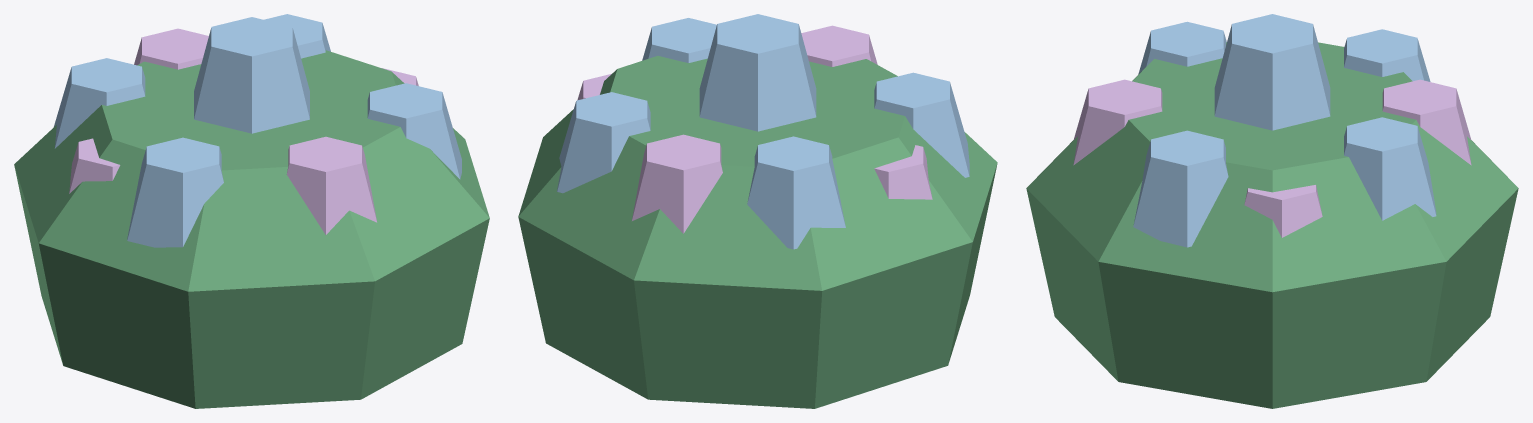
File: flora_12_hydrangea_cam_tu_cau_bush.glb
3 views of the same model, side by side, from view 1: azimuth 30°, elevation 25°; view 2: azimuth 150°, elevation 25°; view 3: azimuth 270°, elevation 25° (orthographic).
Parts seen in each view (by area): view 1: flora_12_hydrangea_cam_tu_cau_bush; view 2: flora_12_hydrangea_cam_tu_cau_bush; view 3: flora_12_hydrangea_cam_tu_cau_bush.
Boxes of the visible parts, <box> form: flora_12_hydrangea_cam_tu_cau_bush: <box>14,14,489,408</box>; flora_12_hydrangea_cam_tu_cau_bush: <box>518,14,997,408</box>; flora_12_hydrangea_cam_tu_cau_bush: <box>1026,14,1518,408</box>.
Bounding box in the file's own units: 2.6 × 1.65 × 2.6.
